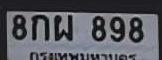8: (11, 14, 26, 39), (128, 16, 142, 42), (91, 15, 105, 40)
9: (109, 15, 124, 41)
A01: (31, 14, 48, 40)
A28: (53, 14, 72, 40)
